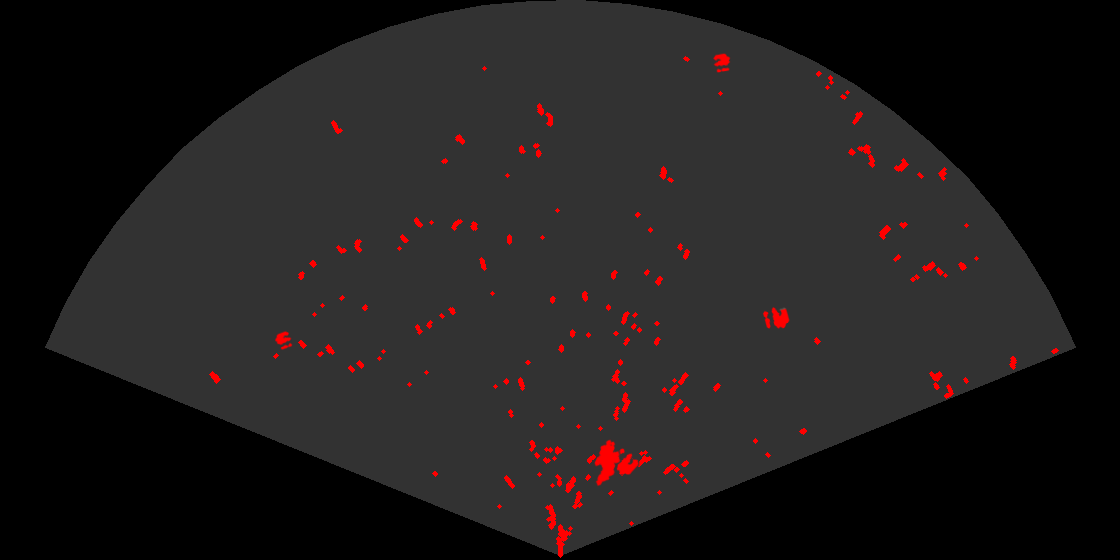AUV: (593, 438, 622, 488)
ball: (610, 447, 640, 477), (761, 306, 791, 330), (273, 329, 294, 351), (712, 52, 732, 74)
